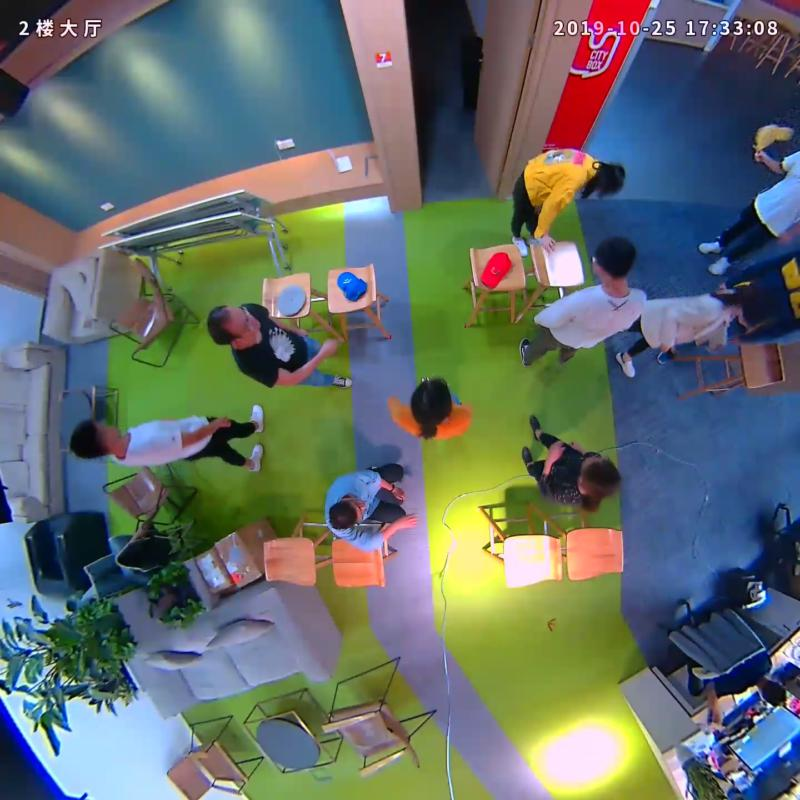head: (202, 295, 268, 355), (720, 275, 780, 336), (404, 372, 462, 434), (65, 415, 128, 469), (591, 231, 643, 288), (572, 448, 627, 501), (320, 491, 361, 541), (587, 156, 629, 194)
